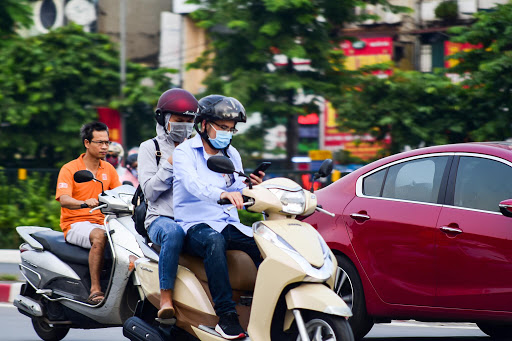dieu khien xe may: (197, 95, 336, 317)
